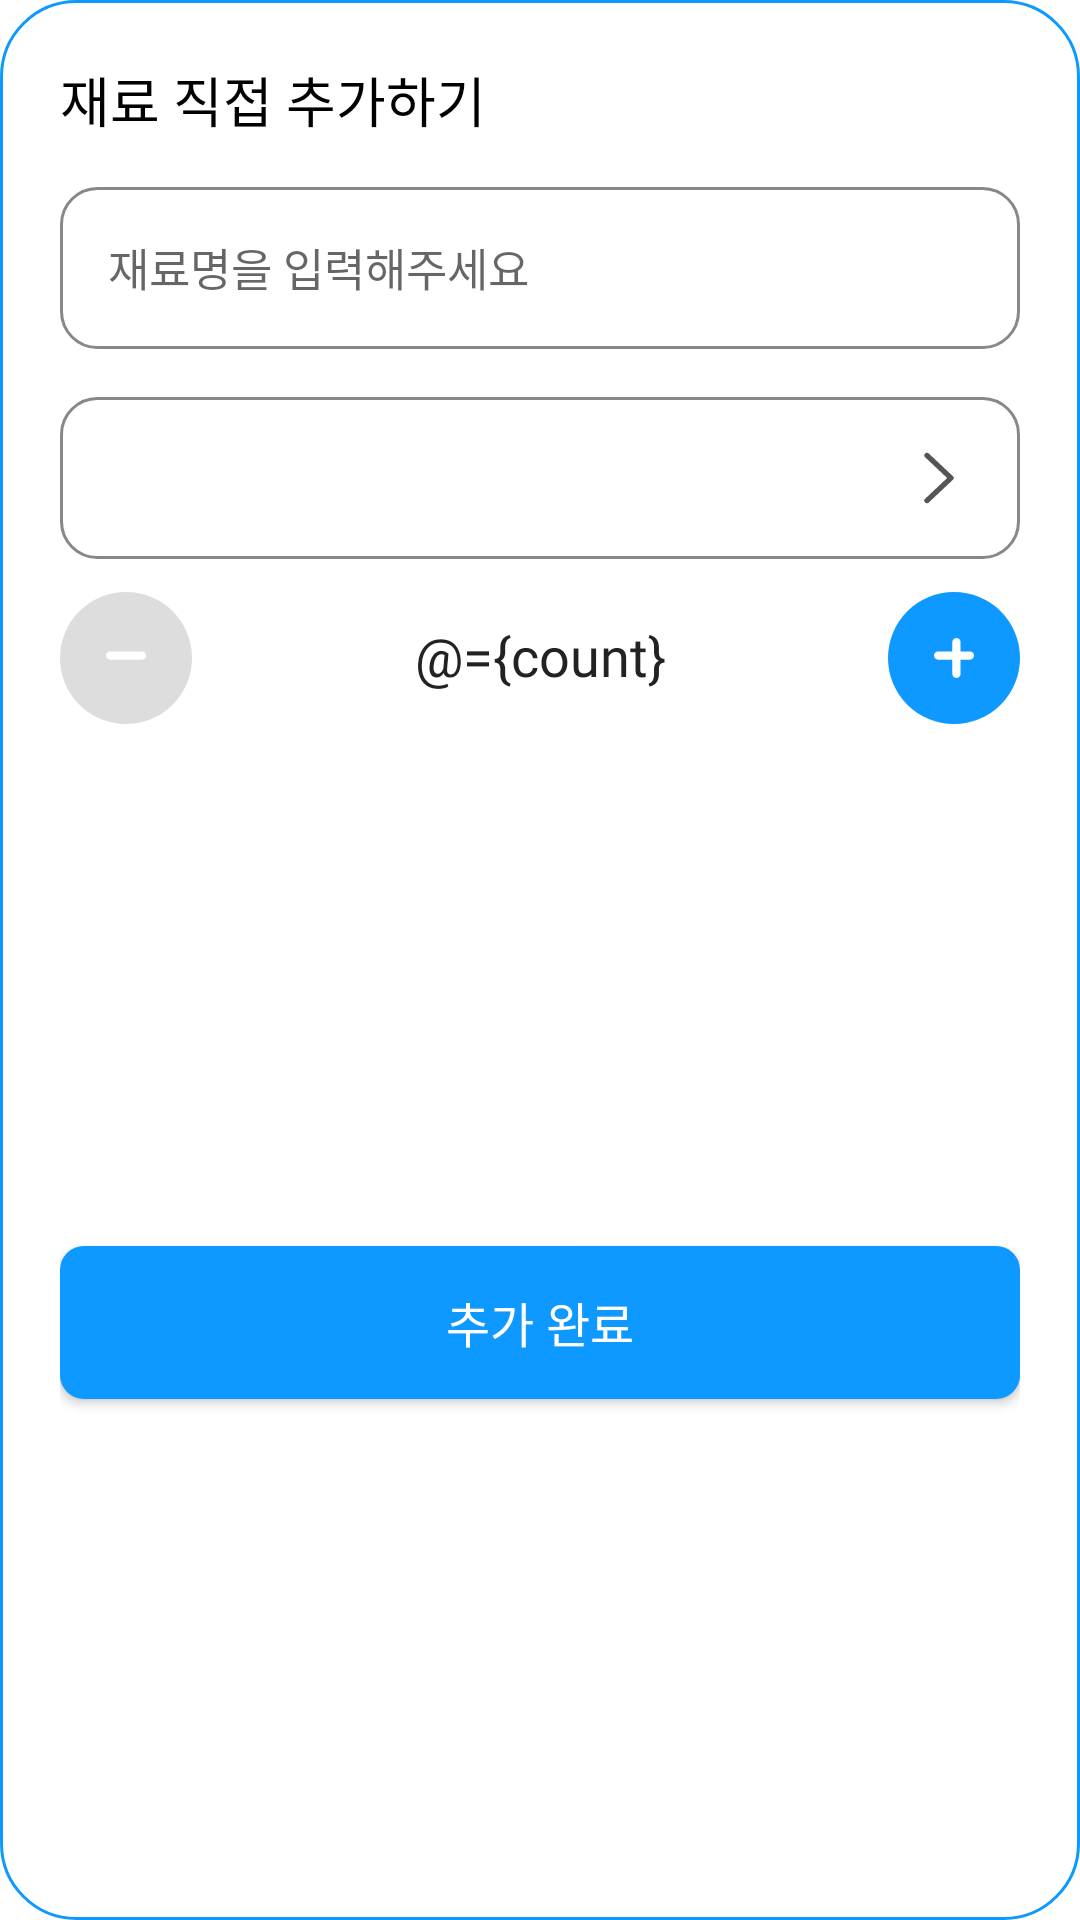

Icons on this 1080*1920 Android screen, each with the point to tap as (x,y):
minus: (126,658)
plus: (954,658)
